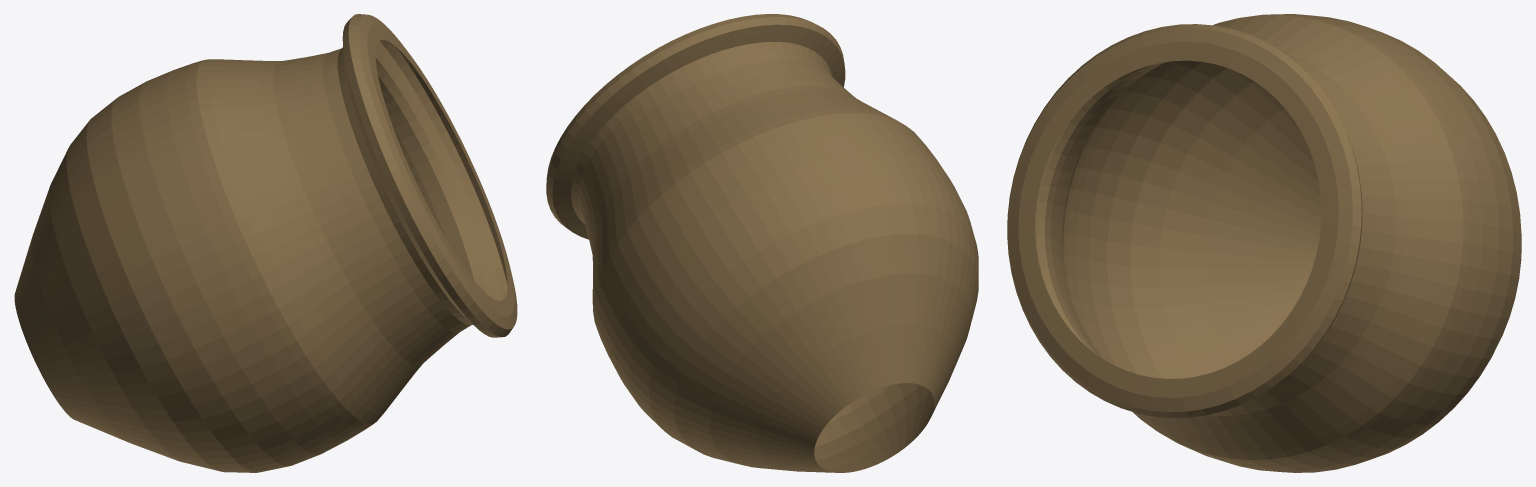
File: Vasija.obj
3 renders of one model, left to right at view 1: azimuth 30°, elevation 25°; view 2: azimuth 150°, elevation 25°; view 3: azimuth 270°, elevation 25°, orthographic. The views are drawn at different scales.
Parts seen in each view (by area): view 1: P_Barriga_abajo; view 2: P_Barriga_abajo; view 3: P_Barriga_abajo.
Boxes of the visible parts, <box> form: P_Barriga_abajo: <box>14,14,517,472</box>; P_Barriga_abajo: <box>546,14,978,472</box>; P_Barriga_abajo: <box>1007,14,1521,472</box>.
Bounding box in the file's own units: 1.09 × 1.02 × 1.02.
